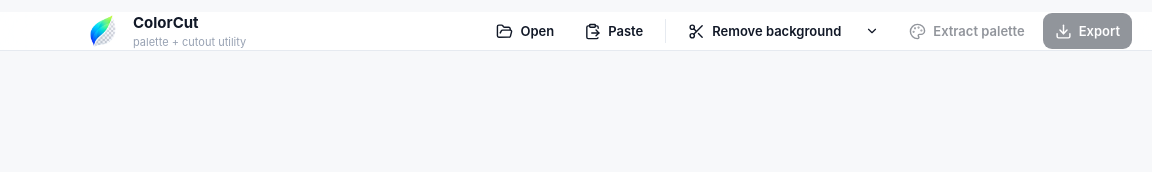
it: TopBar › does not show the Photoroom option until the dropdown toggle is opened
expect the menu item "remove with photoroom" is not shown: met
Click the button named "more background removal options": (872, 31) [853,13,891,49]
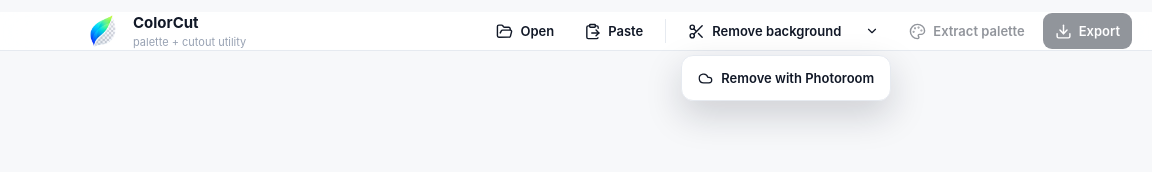
expect the menu item "Remove with Photoroom" is shown: met, box [688,62,884,94]
